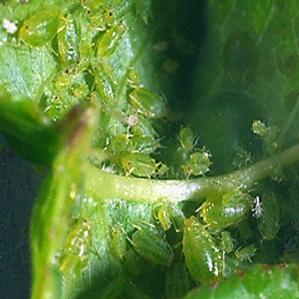Green peach aphid: (56, 203, 104, 289), (175, 219, 230, 291), (202, 180, 261, 234), (6, 1, 66, 54), (131, 223, 174, 276), (129, 83, 174, 127), (115, 147, 158, 181), (100, 17, 129, 66), (181, 149, 210, 178), (178, 129, 205, 158)
